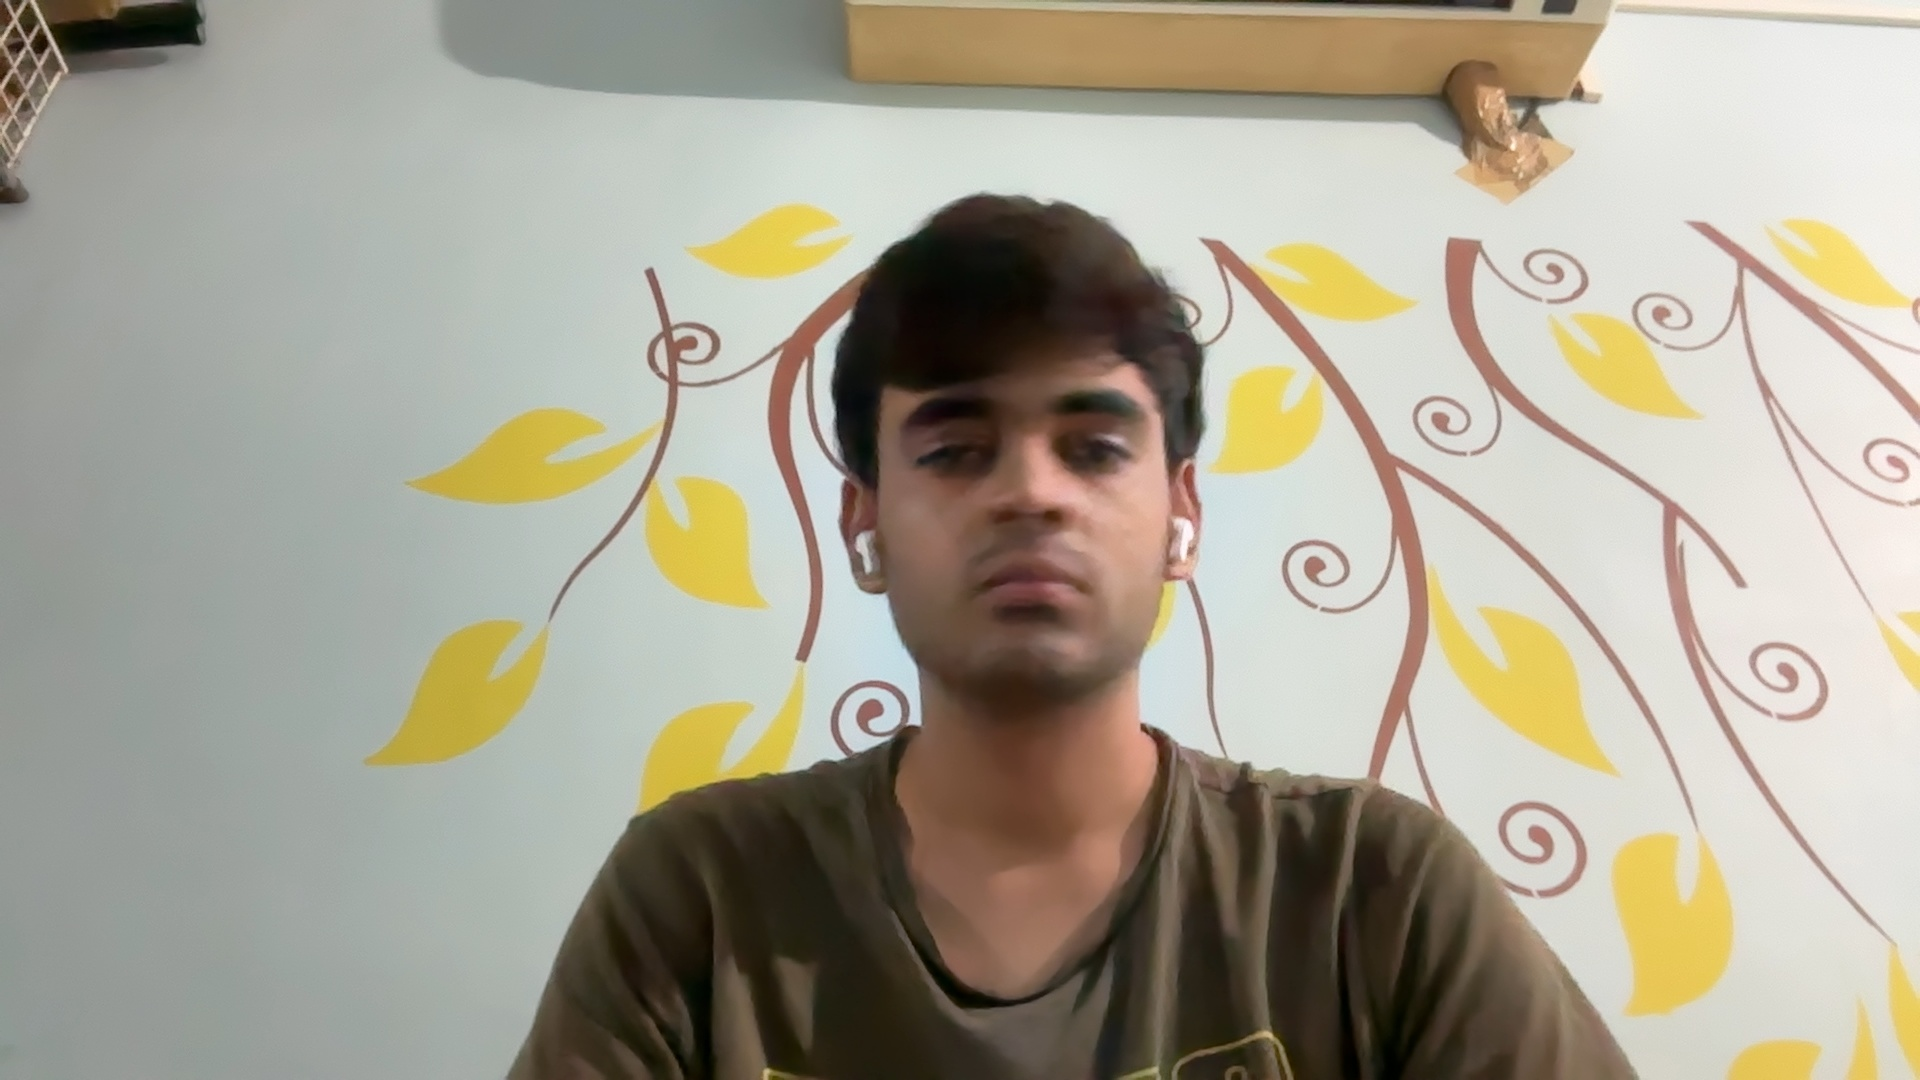No Mask: (876, 486, 1178, 723)
